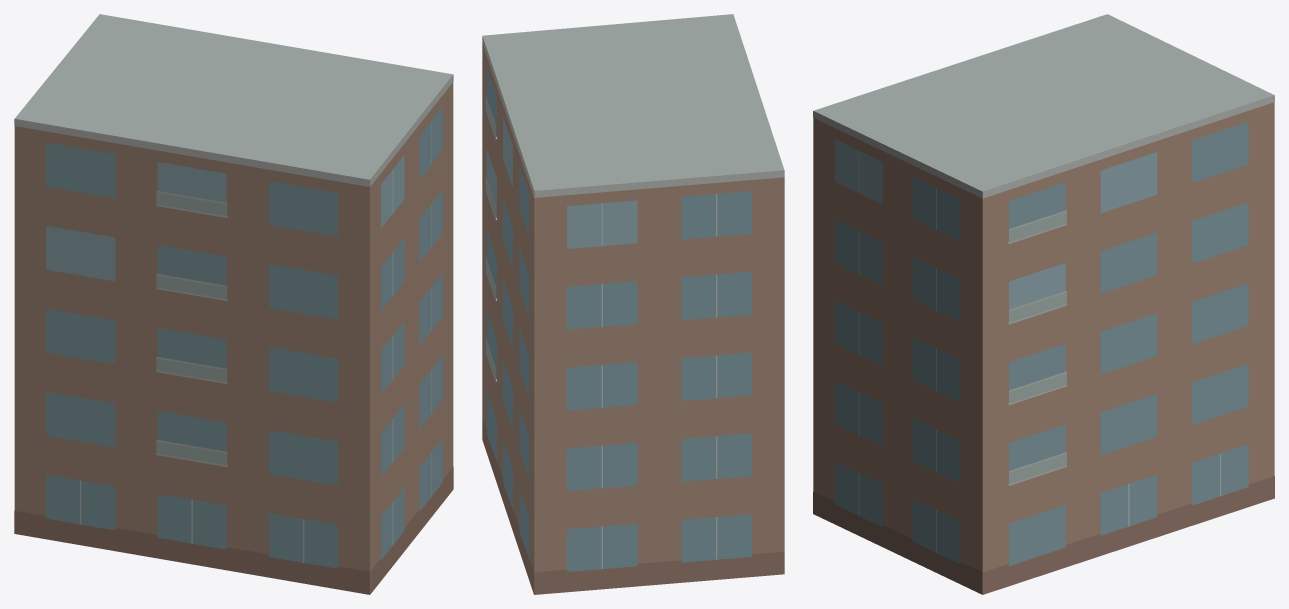
Rendered from survey-upis-32768561.glb.
3 views of the same model, side by side, from view 1: azimuth 30°, elevation 25°; view 2: azimuth 150°, elevation 25°; view 3: azimuth 270°, elevation 25° (orthographic). The views are drawn at different scales.
Parts seen in each view (by area): view 1: survey-upis-32768561.tmp; view 2: survey-upis-32768561.tmp; view 3: survey-upis-32768561.tmp.
Part boxes in pixels (left/top/right/bottom): survey-upis-32768561.tmp: left=14, top=14, right=453, bottom=594; survey-upis-32768561.tmp: left=482, top=14, right=784, bottom=594; survey-upis-32768561.tmp: left=813, top=14, right=1274, bottom=594.
Size of the model in its own units: 13.38 by 14.15 by 14.69.
